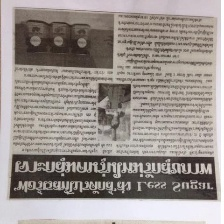news_paper: (5, 4, 222, 206)
